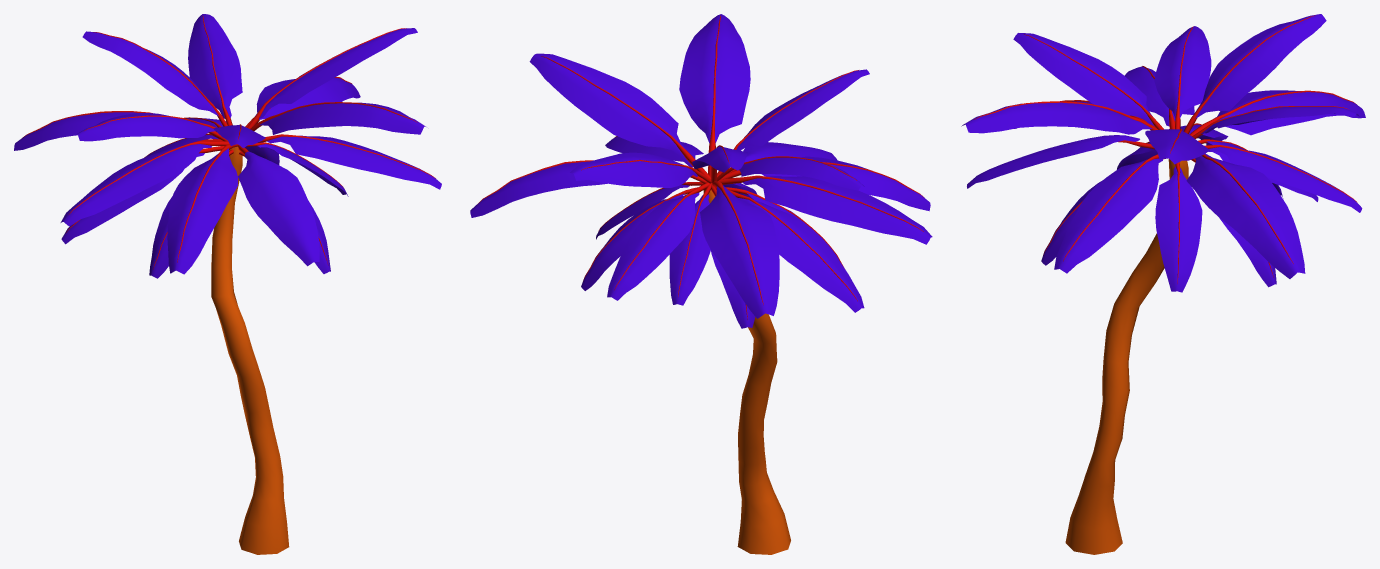
Rendered from Palmtree_2.fbx.
The picture shows the model from 3 angles, left to right: view 1: azimuth 30°, elevation 25°; view 2: azimuth 150°, elevation 25°; view 3: azimuth 270°, elevation 25°; orthographic projection. The views are drawn at different scales.
Visible parts, largest first — view 1: Leaf1LP.006; view 2: Leaf1LP.006; view 3: Leaf1LP.006.
Boxes of the visible parts, x1,y1,x2,y2 form: Leaf1LP.006: (14,14,441,554); Leaf1LP.006: (470,14,932,554); Leaf1LP.006: (961,14,1365,554).
Bounding box in the file's own units: 531 × 629 × 470.
